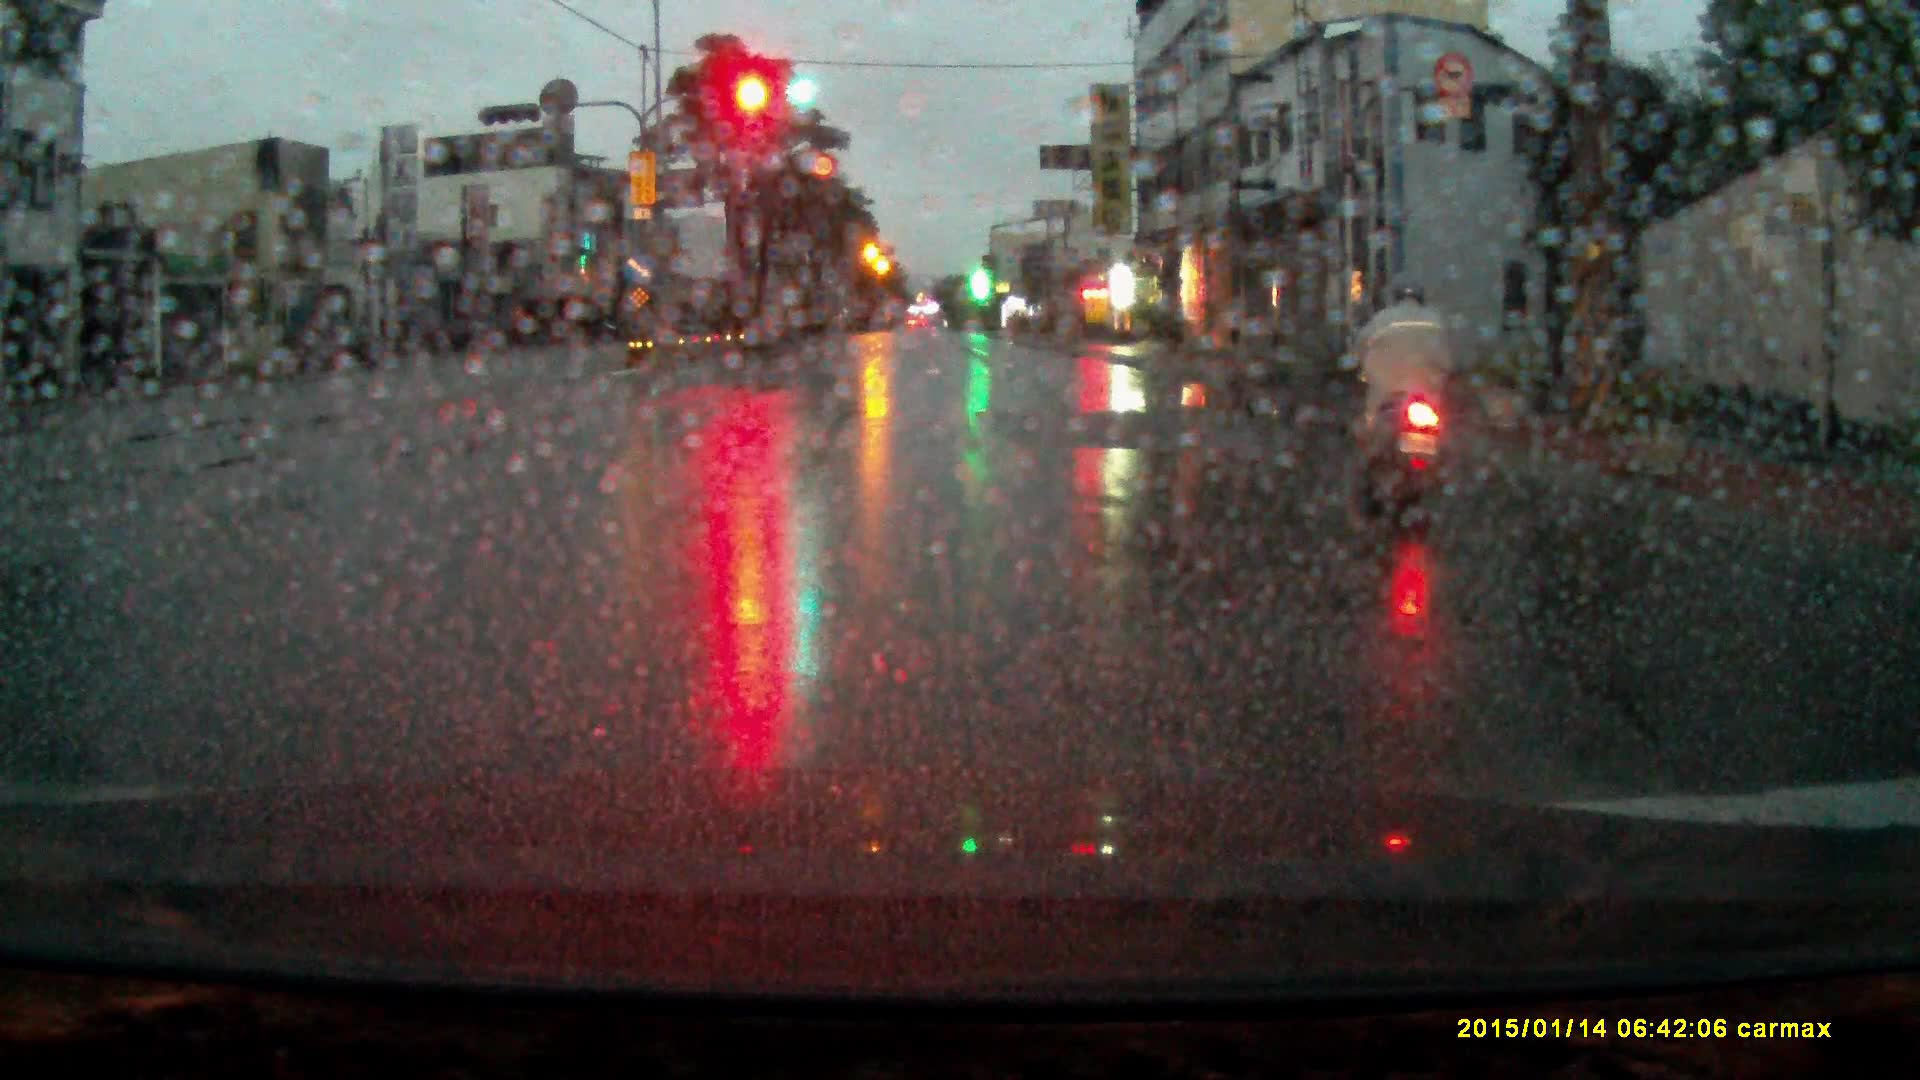rider: (1360, 261, 1472, 551)
